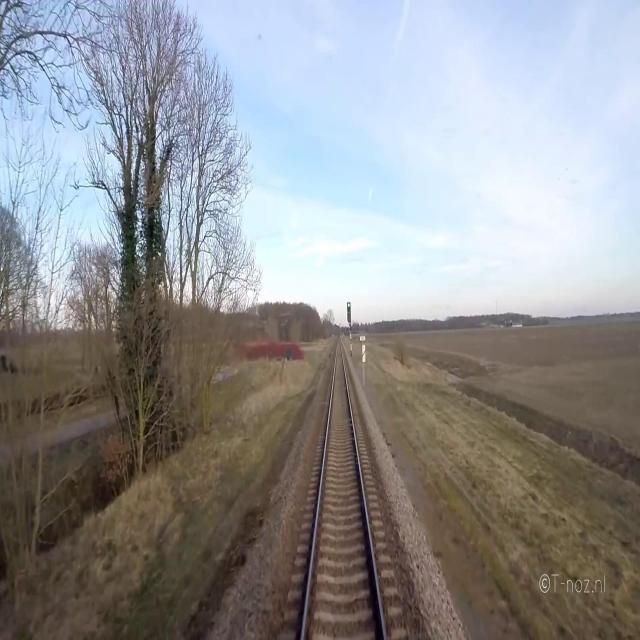rail-track: (304, 344, 382, 639)
